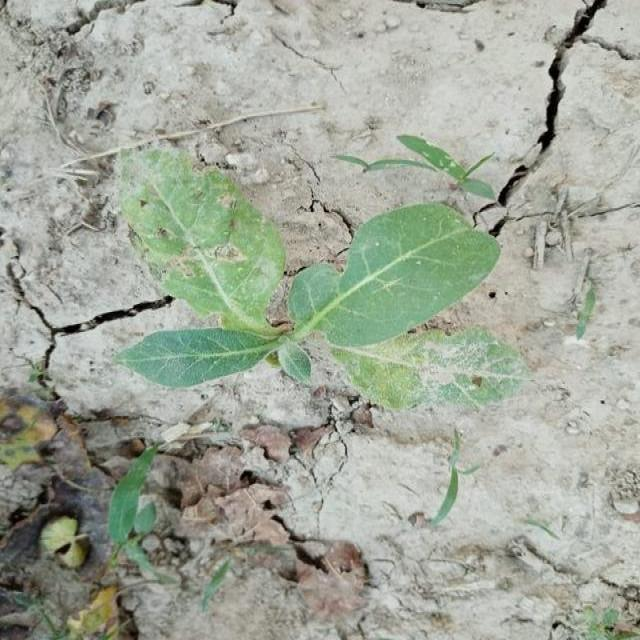crop: (126, 139, 534, 433)
